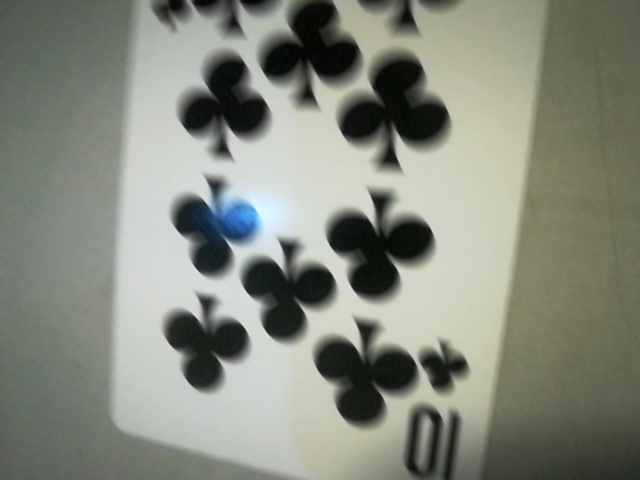mh 10: (402, 336, 485, 480)
